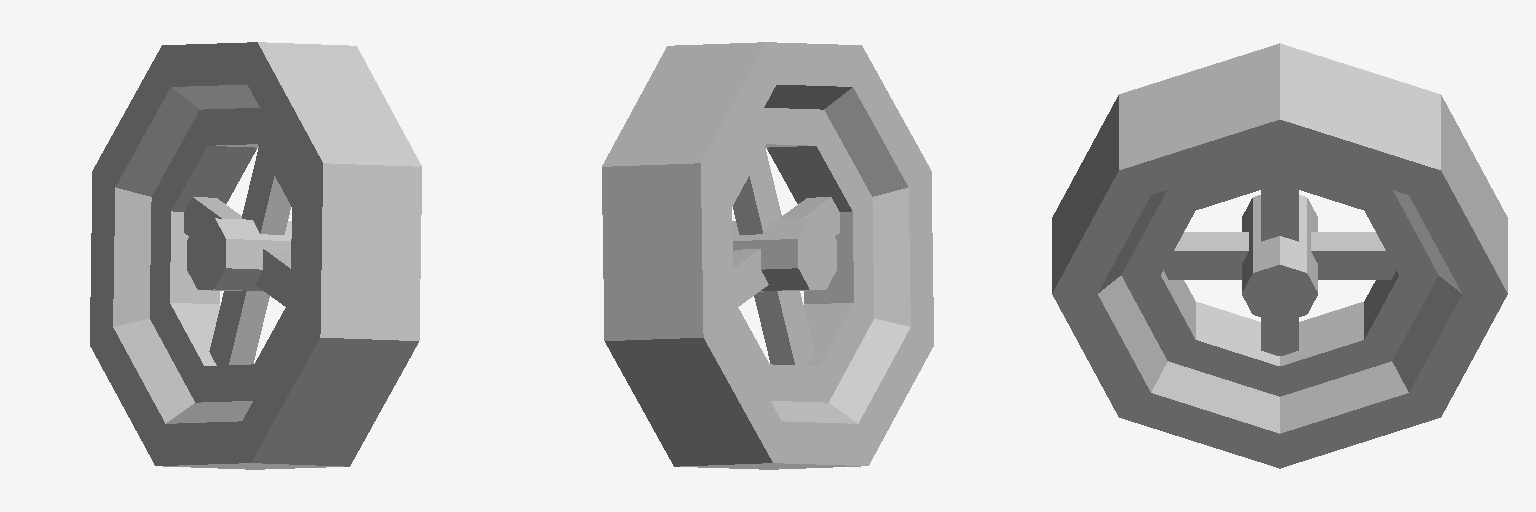
File: wheel.obj
3 renders of one model, left to right at view 1: azimuth 30°, elevation 25°; view 2: azimuth 150°, elevation 25°; view 3: azimuth 270°, elevation 25°, orthographic.
Visible parts, largest first — view 1: wheel; view 2: wheel; view 3: wheel.
Part boxes in pixels (x1,y1,x2,y2): wheel: (90, 42, 421, 469); wheel: (602, 42, 933, 469); wheel: (1052, 43, 1507, 468).
Bounding box in the file's own units: 0.2384 × 0.4833 × 0.4678.